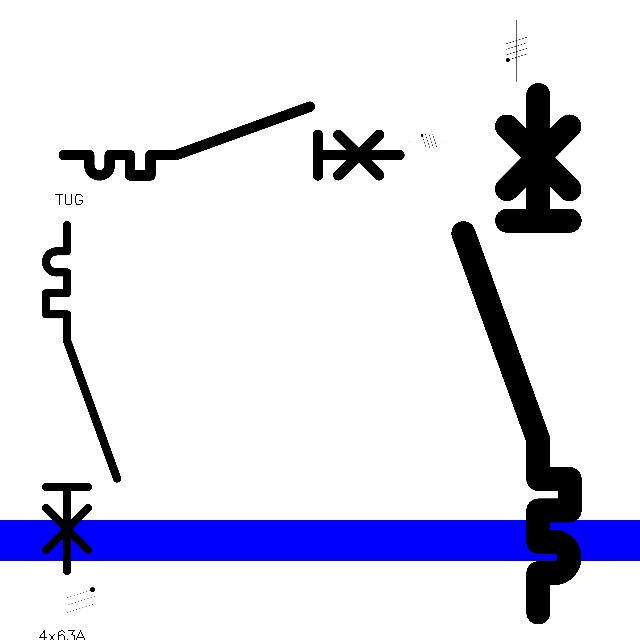interruptor_termomagnetico: (450, 81, 583, 626), (37, 216, 126, 579), (55, 98, 408, 184)
